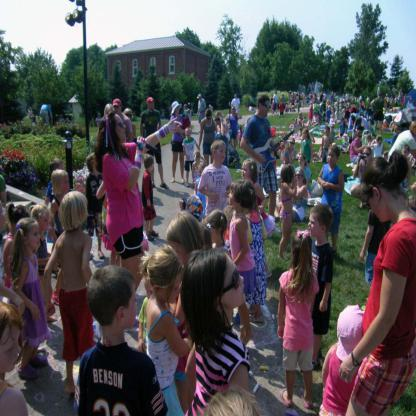face: (222, 255, 246, 308), (1, 327, 22, 373), (117, 286, 138, 329), (364, 192, 384, 223), (161, 275, 181, 304), (170, 242, 190, 266), (114, 115, 127, 142), (27, 227, 42, 249), (309, 215, 321, 238), (40, 213, 50, 234), (217, 147, 227, 164), (61, 177, 71, 193), (242, 163, 251, 179), (229, 189, 237, 206), (328, 150, 337, 165), (263, 102, 271, 117), (94, 159, 102, 174), (296, 172, 303, 185), (114, 105, 122, 115), (299, 156, 305, 167), (364, 150, 370, 160), (126, 113, 132, 123), (199, 168, 205, 177), (216, 117, 222, 125), (290, 140, 295, 148), (187, 129, 192, 137), (303, 132, 308, 139), (149, 103, 154, 110), (207, 117, 212, 123), (176, 107, 180, 114), (325, 128, 329, 134), (232, 108, 236, 114), (195, 156, 199, 162), (384, 121, 388, 126), (360, 134, 363, 140), (332, 126, 335, 132), (342, 119, 345, 123), (235, 95, 238, 99), (345, 137, 348, 141), (315, 115, 317, 118)
